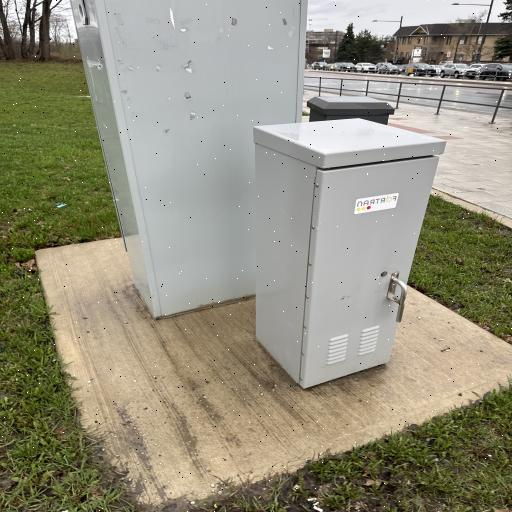Electrical Box: (72, 0, 309, 321), (246, 103, 446, 389)
